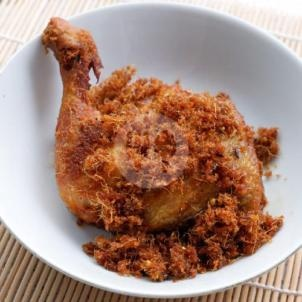ayam_goreng: (39, 13, 271, 223)
